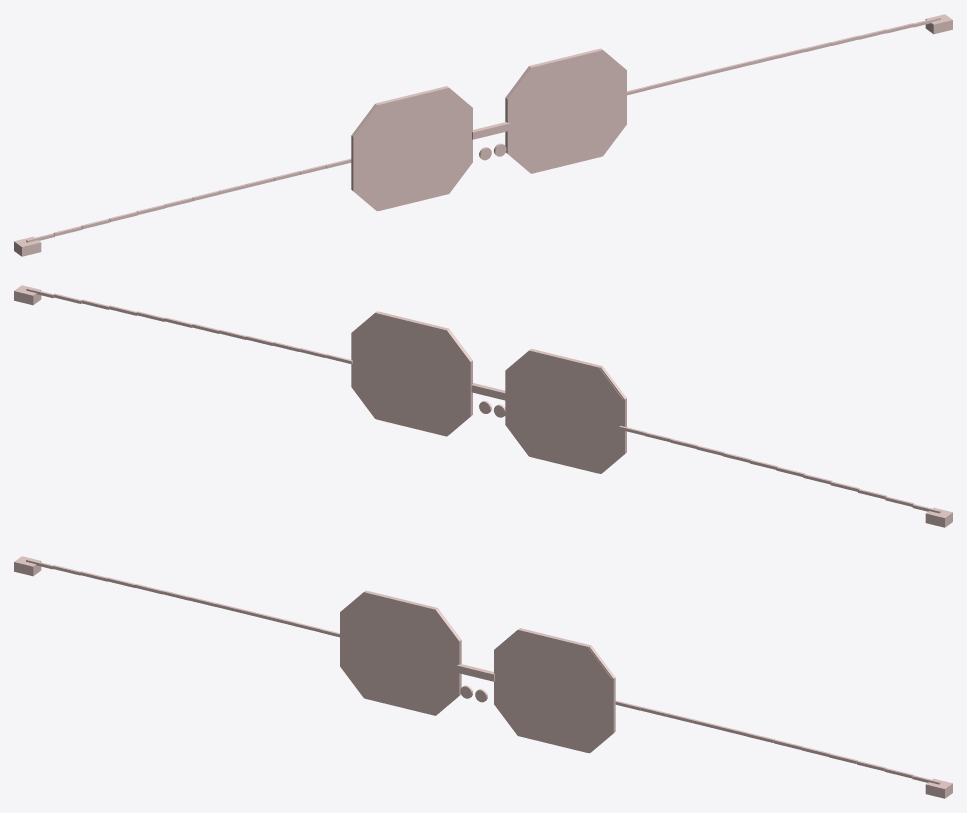
Rendered from template_match_smoke.glb.
3 renders of one model, top to bottom at view 1: azimuth 30°, elevation 25°; view 2: azimuth 150°, elevation 25°; view 3: azimuth 330°, elevation 25°, orthographic.
Parts seen in each view (by area): view 1: RightRim, LeftRim, LeftTemple, RightTemple, Frame, TempleTips; view 2: RightRim, LeftRim, RightTemple, LeftTemple, Frame, TempleTips; view 3: LeftRim, RightRim, RightTemple, LeftTemple, Frame, TempleTips.
Boxes of the visible parts, box(x1,y1,x2,y2) form: RightRim: box(505, 49, 625, 173); LeftRim: box(355, 86, 472, 210); LeftTemple: box(26, 158, 351, 242); RightTemple: box(627, 17, 940, 95); Frame: box(351, 48, 626, 211); TempleTips: box(14, 14, 952, 256); RightRim: box(353, 311, 472, 436); LeftRim: box(505, 348, 622, 473); RightTemple: box(26, 288, 352, 364); LeftTemple: box(619, 425, 940, 513); Frame: box(351, 311, 626, 473); TempleTips: box(14, 285, 952, 527); LeftRim: box(341, 591, 461, 715); RightRim: box(494, 628, 611, 752); RightTemple: box(615, 700, 940, 784); LeftTemple: box(26, 559, 339, 637); Frame: box(340, 590, 615, 753); TempleTips: box(14, 556, 952, 798).
Size of the model in its own units: 404 by 44 by 10.5.
